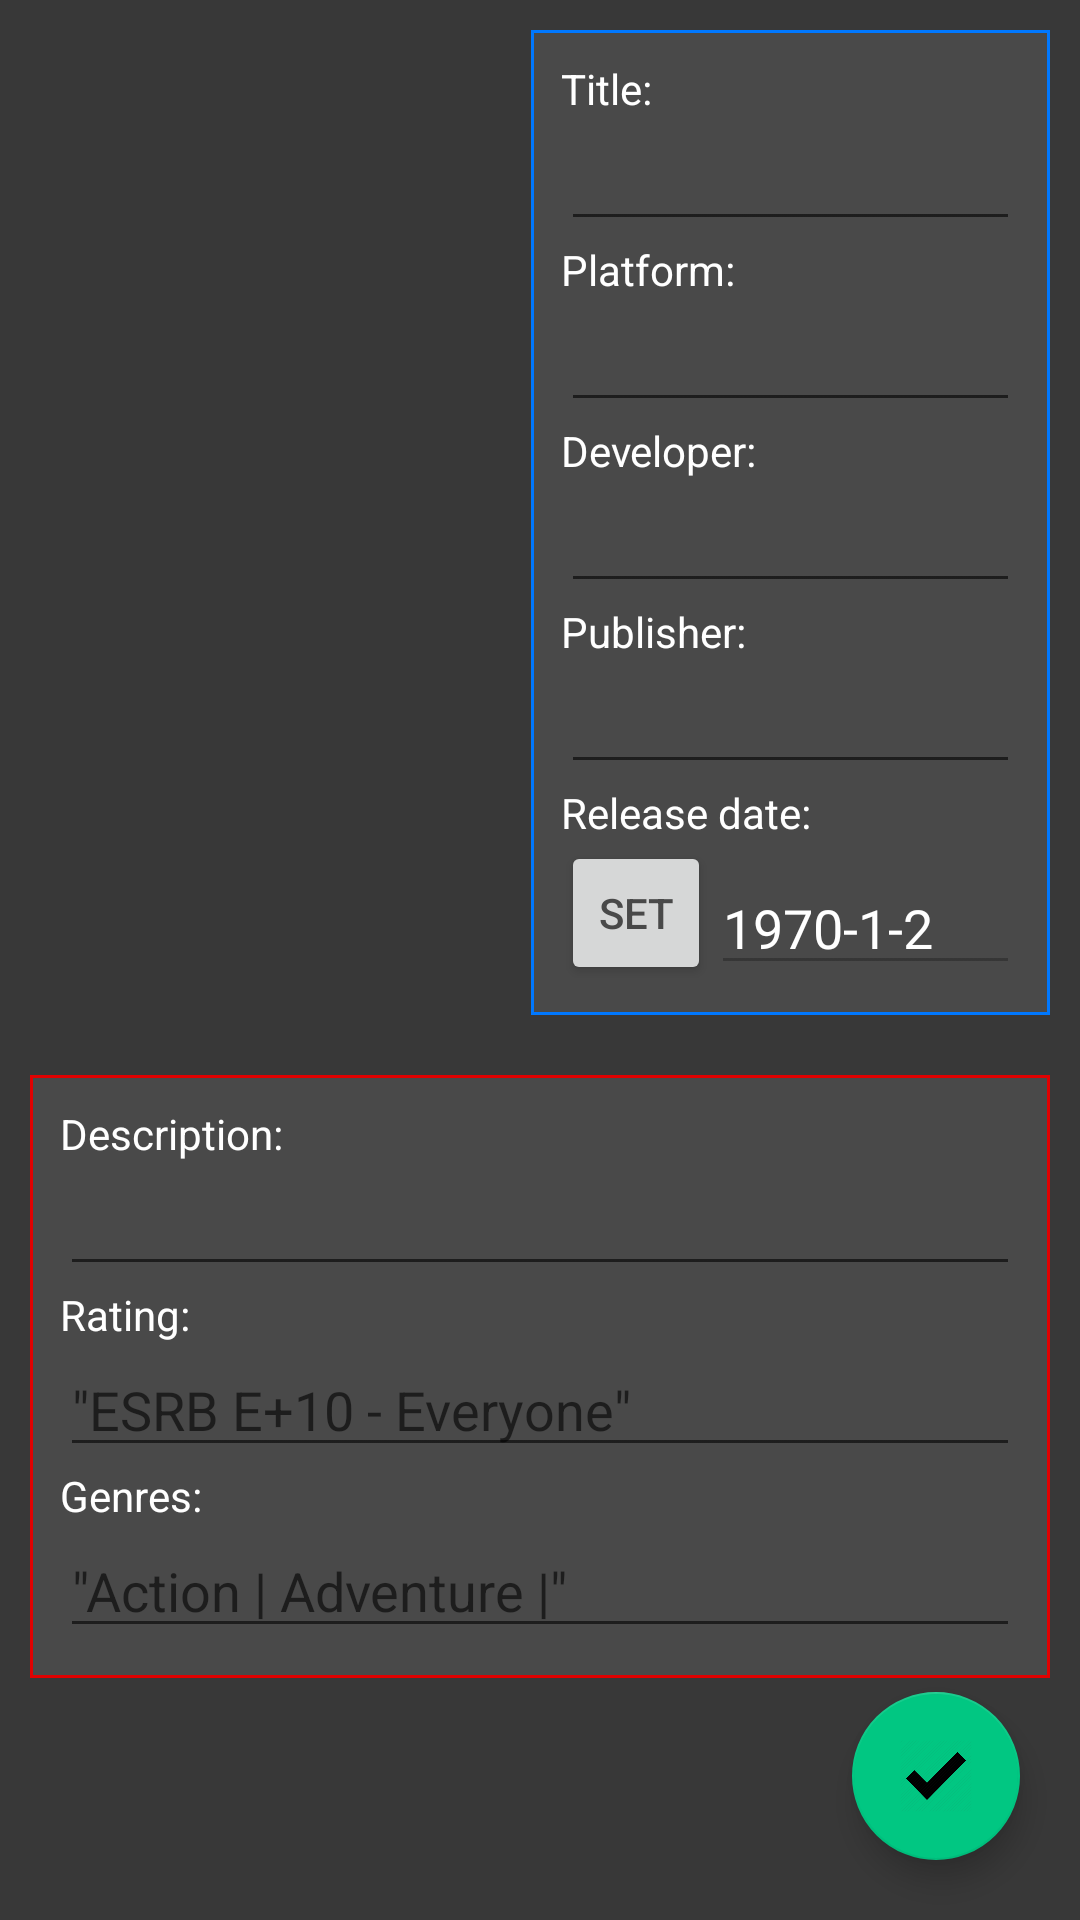

Icons on this 1080*1920 Android screen, each with its box as (x1, y1, x2, y2):
tick: (852, 1692, 1020, 1860)
